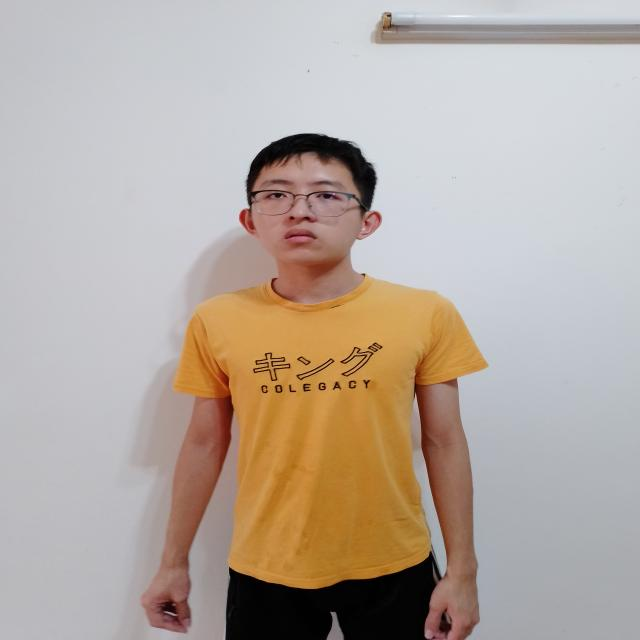person_without_labcoat: (143, 134, 486, 640)
